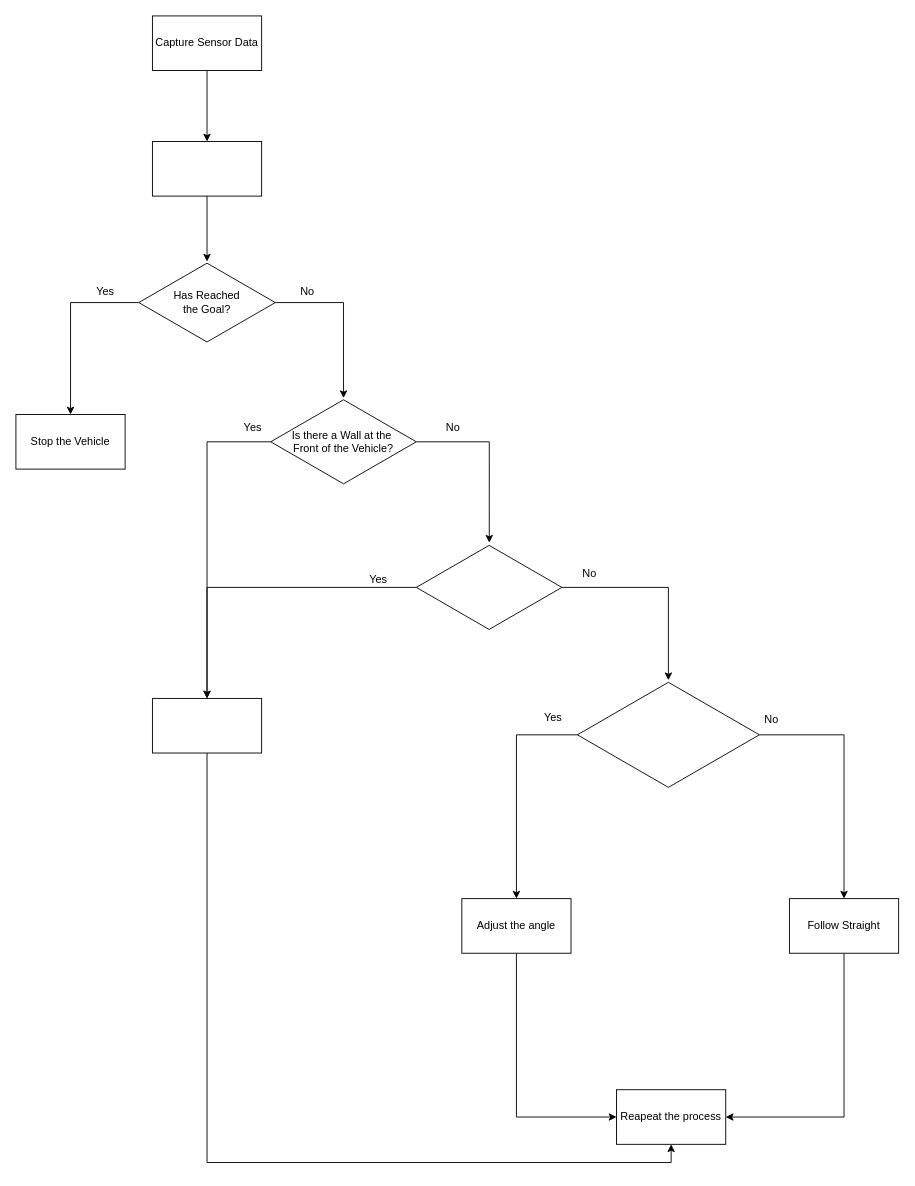
This 915x1186 diagram has some shape labels left out. Each missing label, with the centre of its shape:
"Are there any plants or stakes at the front of the Vehicle?" goes at point (667, 734).
"Is there a Car at the front of the Vehicle?" goes at point (488, 587).
"Make a turn to the side" goes at point (207, 725).
"Process Sensor Data" goes at point (207, 168).
